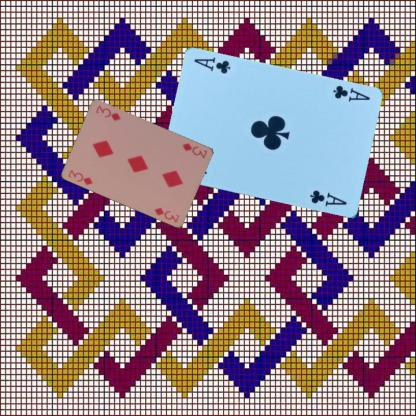3d: (180, 140, 209, 160), (65, 166, 94, 186)
Ac: (330, 82, 371, 102)
